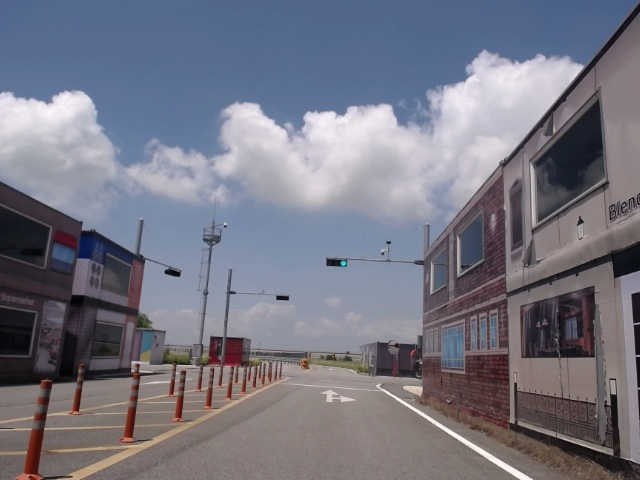green_3: (327, 259, 347, 267)
